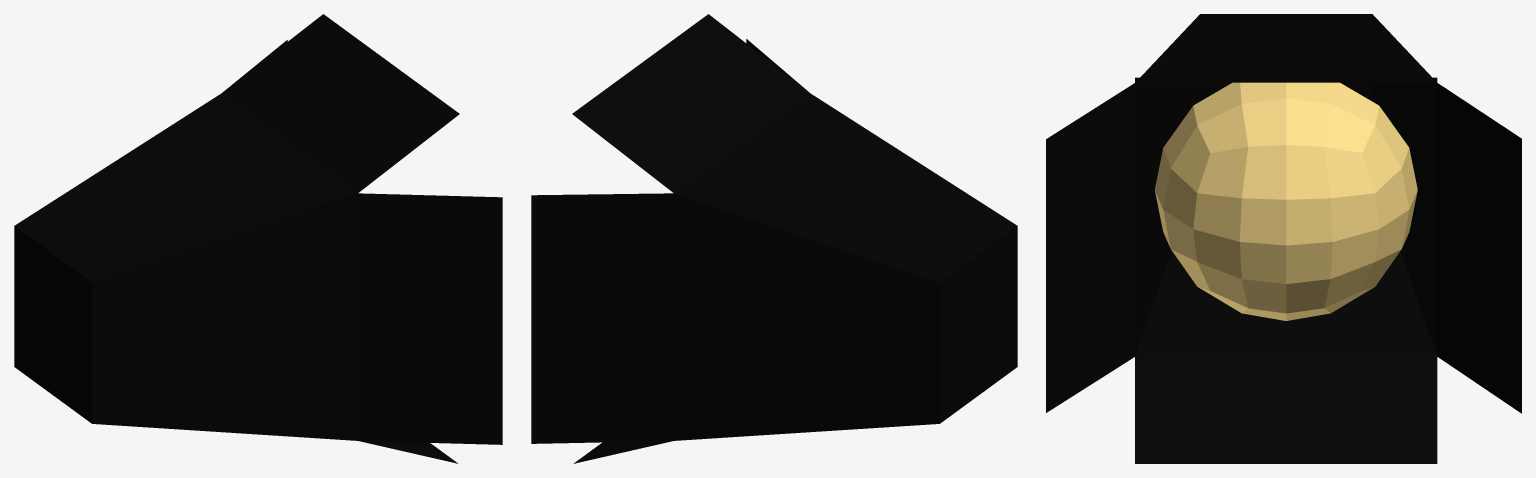
Rendered from STAGE LIGHT.glb.
The picture shows the model from 3 angles, left to right: view 1: azimuth 30°, elevation 25°; view 2: azimuth 150°, elevation 25°; view 3: azimuth 270°, elevation 25°; orthographic projection. The views are drawn at different scales.
Parts seen in each view (by area): view 1: STAGE LIGHT; view 2: STAGE LIGHT; view 3: STAGE LIGHT.
Part boxes in pixels (x1,y1,x2,y2): STAGE LIGHT: [14, 14, 502, 463]; STAGE LIGHT: [531, 14, 1017, 463]; STAGE LIGHT: [1046, 14, 1521, 463].
Bounding box in the file's own units: 4.96 × 4.86 × 5.42.
